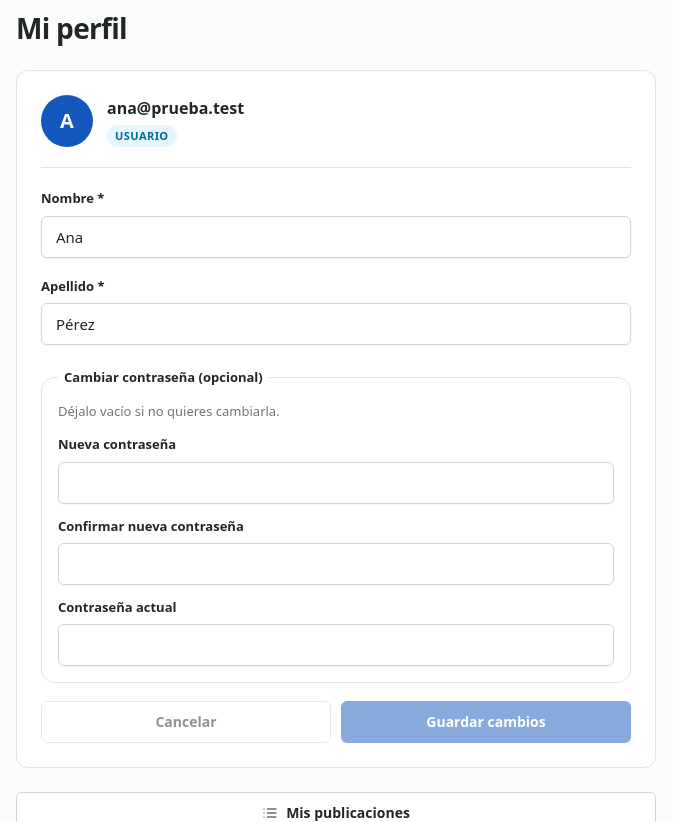
it: H13 - Pantalla Perfil › un fallo del servidor al guardar se muestra sin Reintentar y sin éxito
The width and height of the screenshot is (673, 822).
Expected: the field showing "Ana" is shown, top-left (41, 216), bottom-right (631, 258)
Replace the text in the field labelled "Apellido *" with "Ruiz": (336, 324) top-left (41, 303), bottom-right (631, 345)
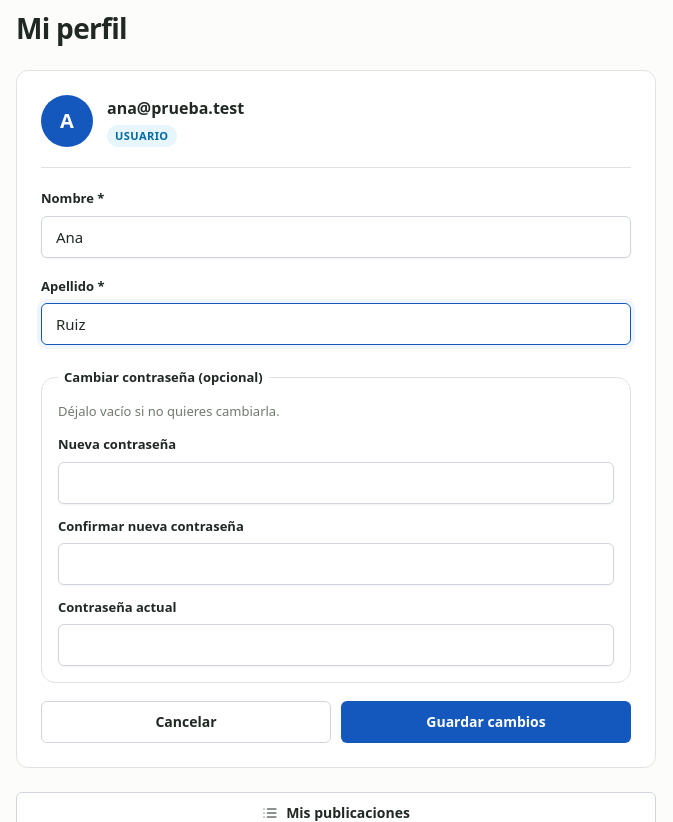
Click the button "Guardar cambios": click(486, 722) top-left (341, 701), bottom-right (631, 743)
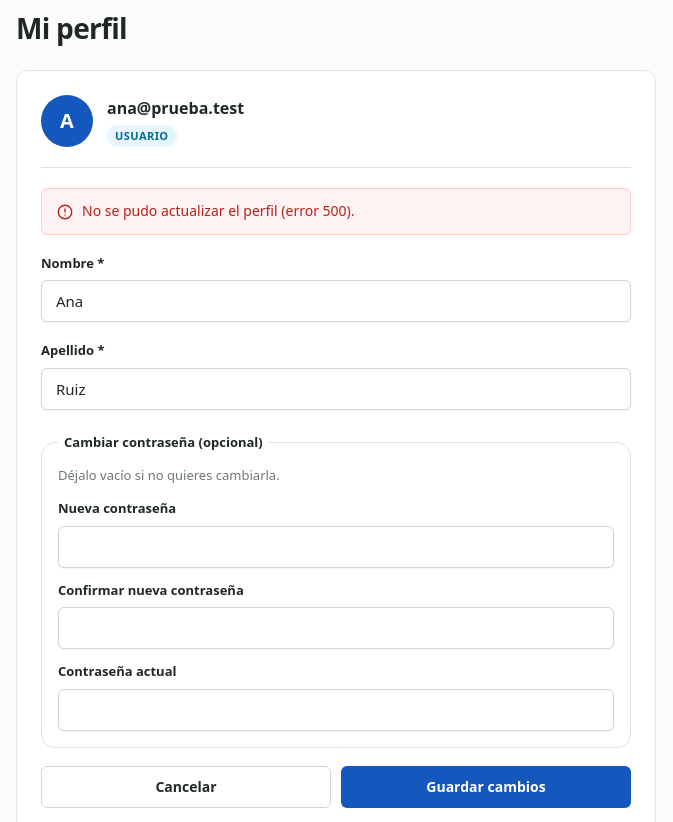
Now the text "No se pudo actualizar el perfil (error 500)." is shown, box top-left (56, 201), bottom-right (355, 222)
